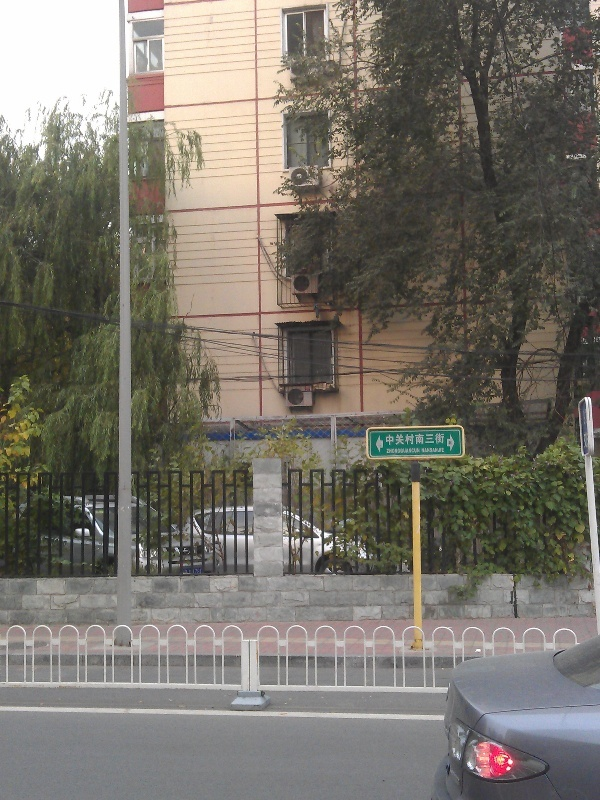text: (385, 433, 400, 446), (401, 433, 416, 446), (417, 433, 432, 446), (433, 433, 446, 446), (401, 449, 416, 454), (387, 449, 400, 454), (433, 448, 445, 453), (422, 448, 432, 453), (449, 441, 453, 446), (417, 449, 420, 454)
